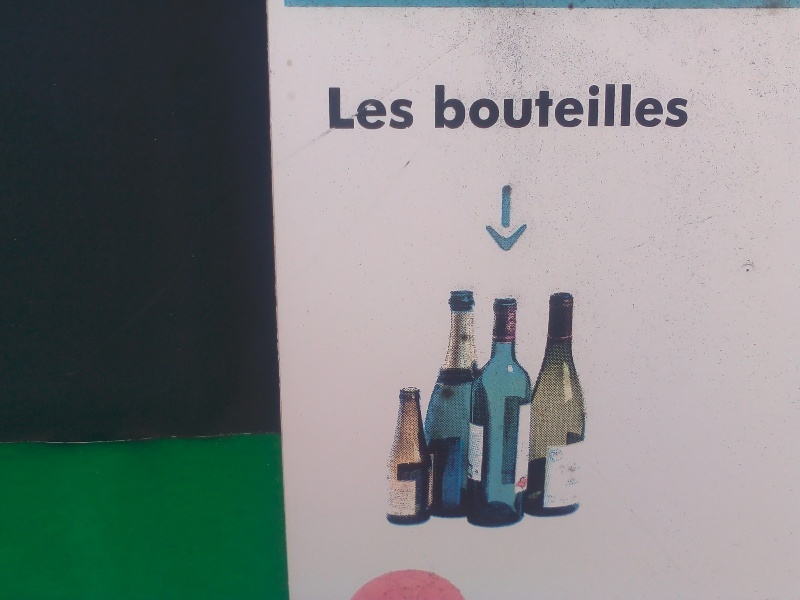text: (673, 80, 689, 131), (433, 80, 448, 131), (449, 80, 464, 131), (465, 80, 480, 131), (481, 80, 496, 131), (497, 80, 512, 131), (513, 80, 528, 131), (529, 80, 544, 131), (545, 80, 560, 131), (561, 80, 576, 131), (577, 80, 592, 131), (593, 80, 608, 131), (609, 80, 624, 131), (625, 80, 640, 131), (641, 80, 656, 131), (657, 80, 672, 131), (337, 84, 352, 132), (353, 84, 368, 132), (369, 84, 384, 132), (385, 84, 400, 132), (401, 84, 416, 132), (330, 84, 336, 132)
